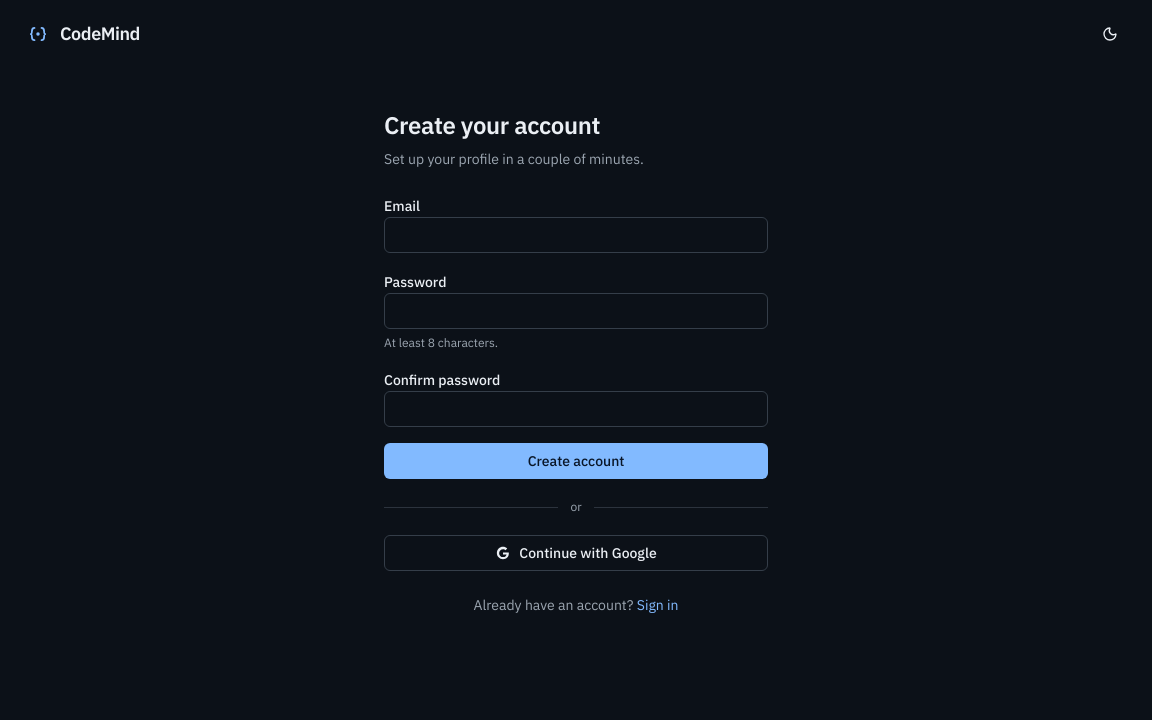
Test case: RegisterPage › reports an existing account clearly
In the field labelled "Email": (576, 235) [384,217,768,253], type "dup@example.com"
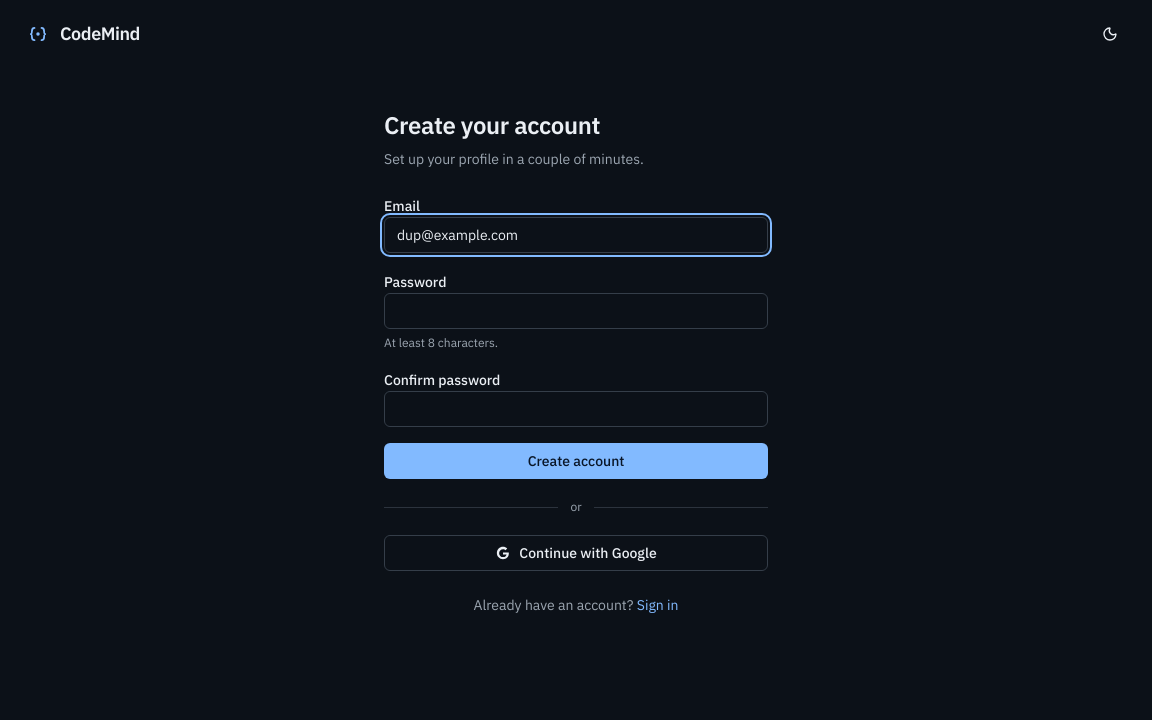
In the password field labelled "Password": (576, 311) [384,293,768,329], type "longenough1"
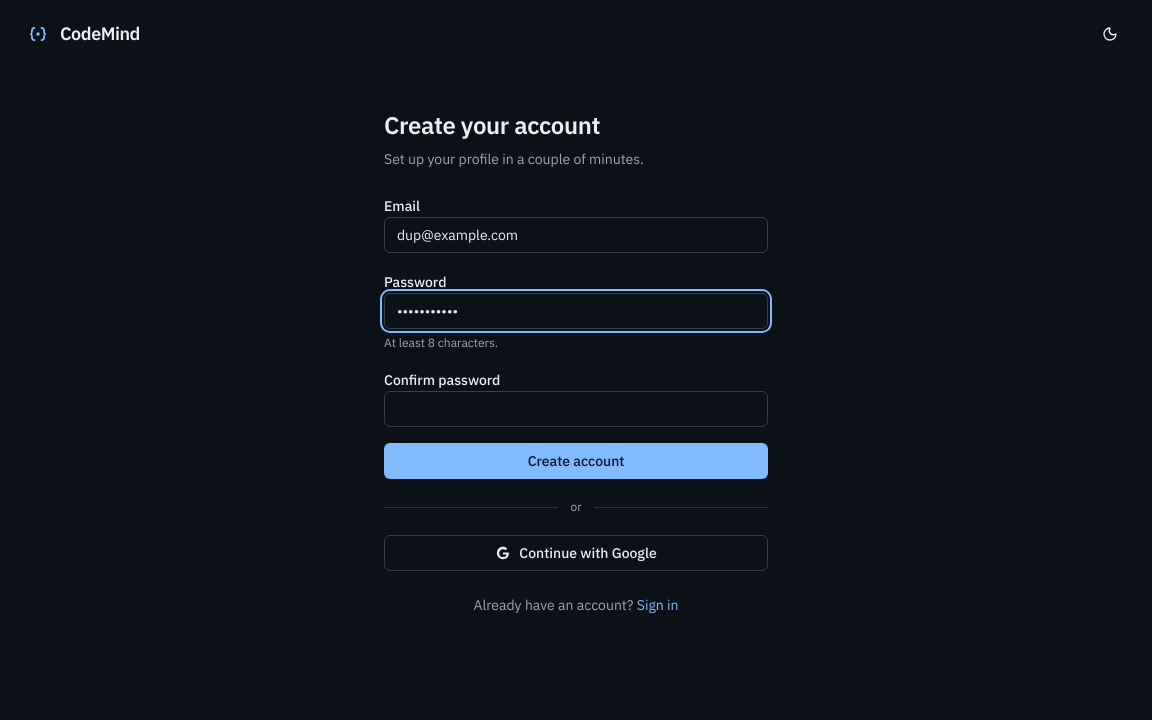
In the password field labelled "Confirm password": (576, 409) [384,391,768,427], type "longenough1"
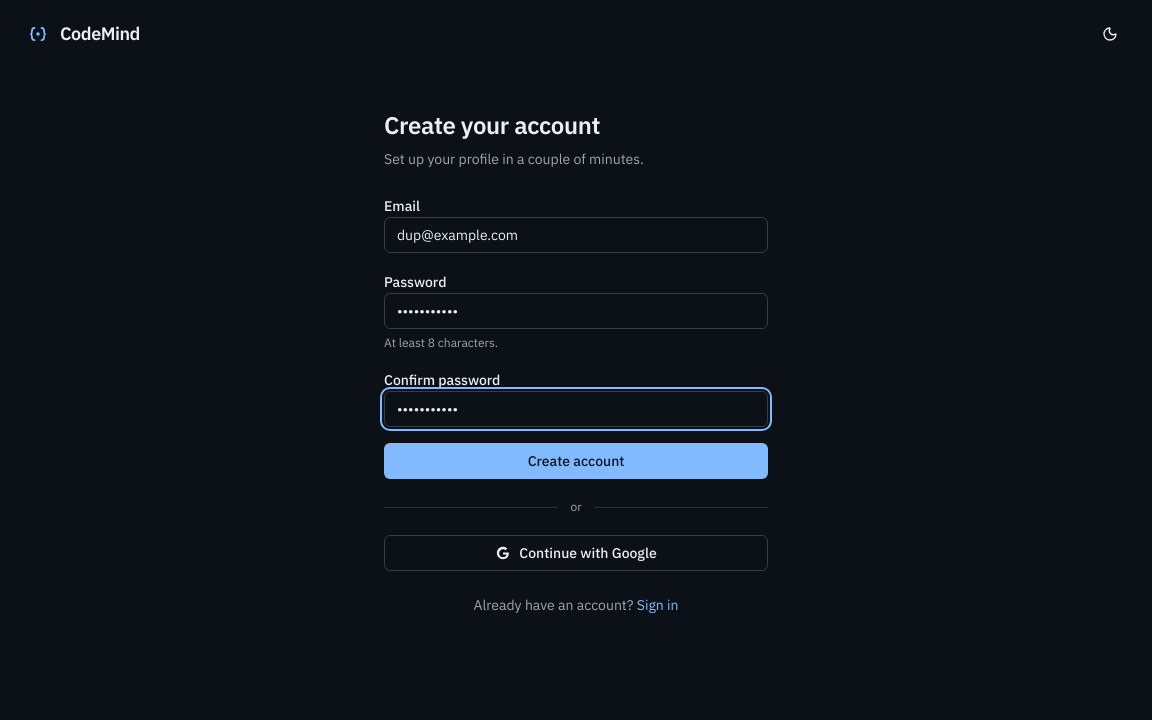
Click the button "Create account": (576, 461) [384,443,768,479]
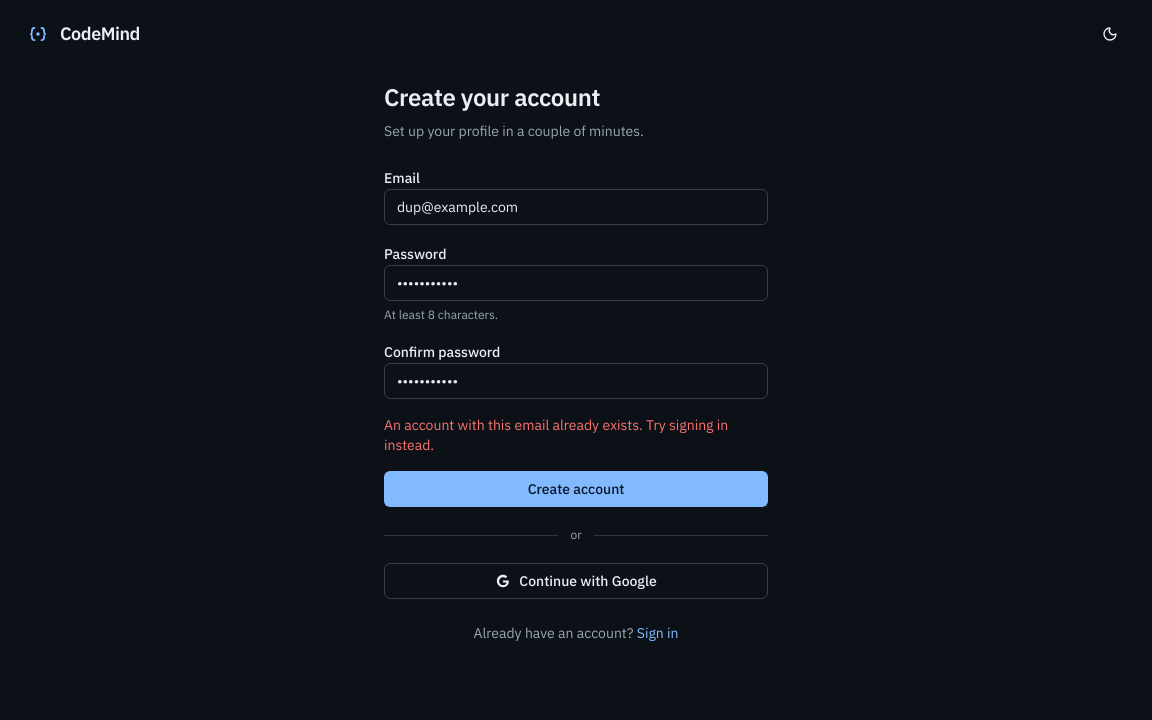
Result: the text "An account with this email already exists. Try signing in instead." is shown at [384,415,768,455]
